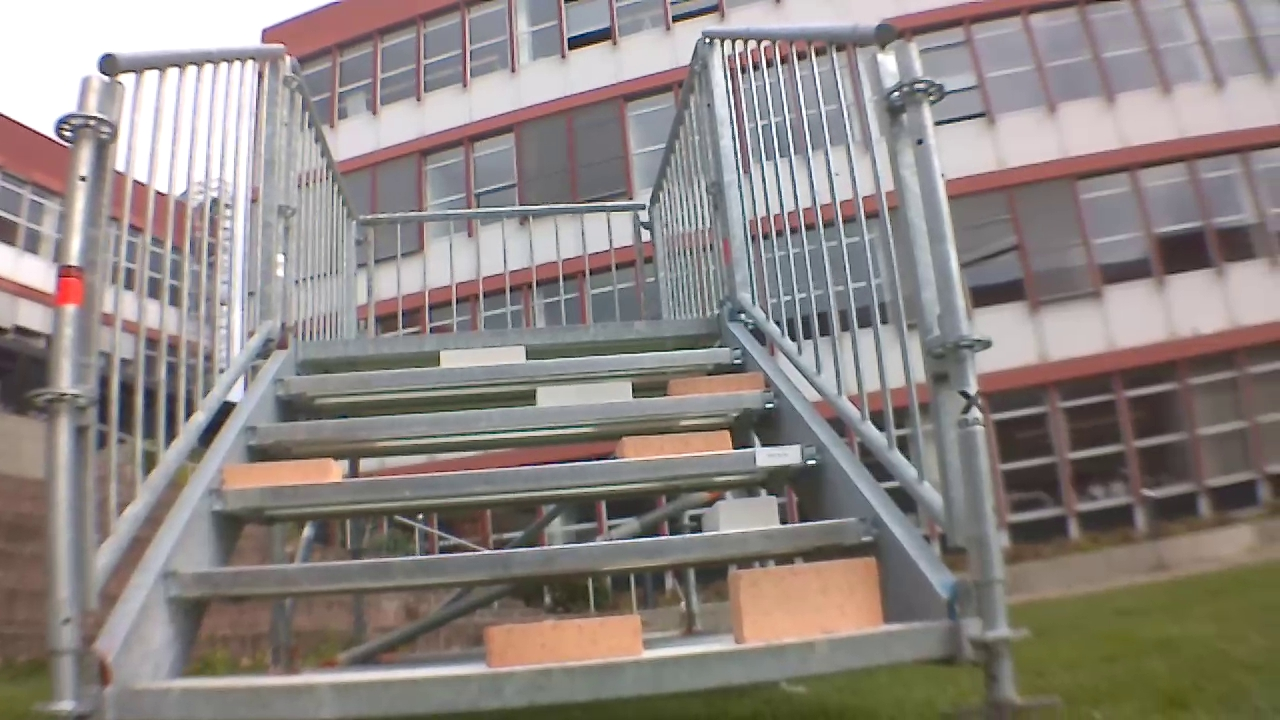brick: (734, 554, 885, 640), (483, 615, 649, 676), (216, 456, 347, 495), (659, 364, 777, 396), (524, 379, 644, 410), (615, 428, 729, 457), (703, 489, 779, 528), (436, 339, 529, 370)
edge: (116, 620, 987, 720), (168, 508, 880, 605), (204, 442, 816, 515), (237, 376, 789, 446), (282, 315, 741, 364), (270, 361, 751, 389)
stairs: (63, 41, 984, 714)
steps: (75, 319, 1015, 712)
